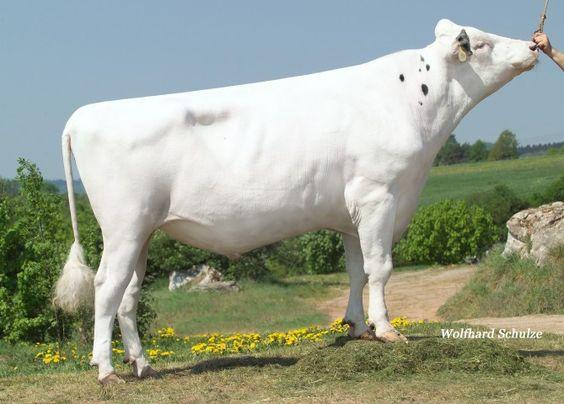cow: (44, 14, 557, 352)
